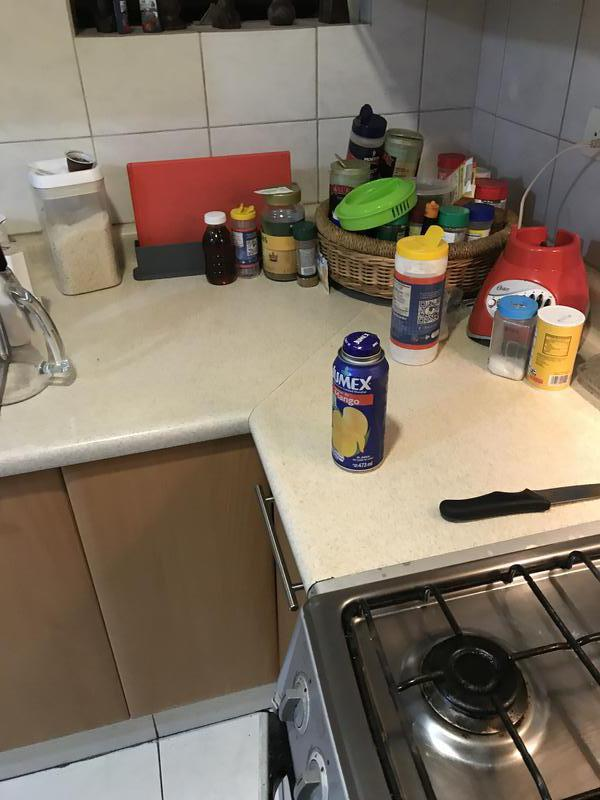jugo_jumex: (329, 332, 390, 472)
